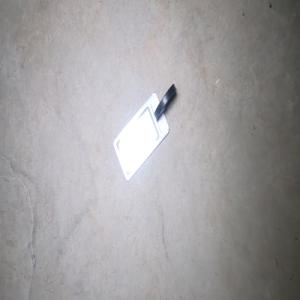LuggageTag: (112, 82, 177, 182)
